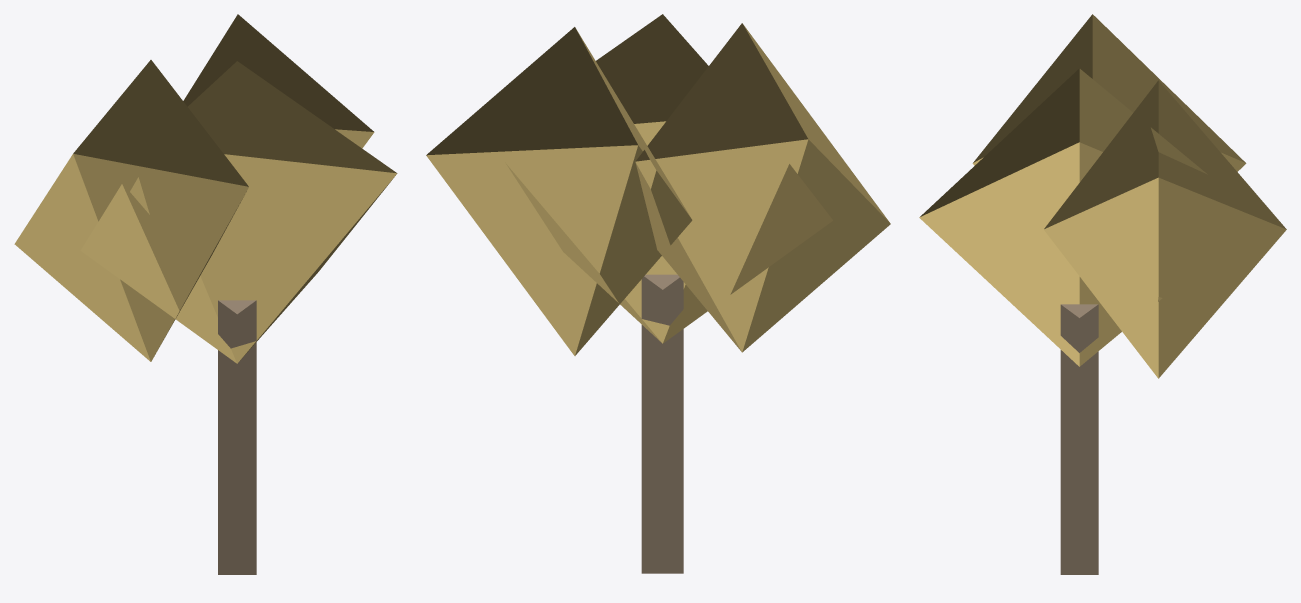
Rendered from sprout.temp.sapling__autumn.glb.
3 renders of one model, left to right at view 1: azimuth 30°, elevation 25°; view 2: azimuth 150°, elevation 25°; view 3: azimuth 270°, elevation 25°, orthographic. The views are drawn at different scales.
Visible parts, largest first — view 1: sprout.temp.sapling__autumn; view 2: sprout.temp.sapling__autumn; view 3: sprout.temp.sapling__autumn.
Part boxes in pixels (x1,y1,x2,y2): sprout.temp.sapling__autumn: (14, 14, 397, 574); sprout.temp.sapling__autumn: (426, 14, 890, 573); sprout.temp.sapling__autumn: (919, 14, 1286, 574).
Size of the model in its own units: 0.93 by 1.21 by 0.7632.
